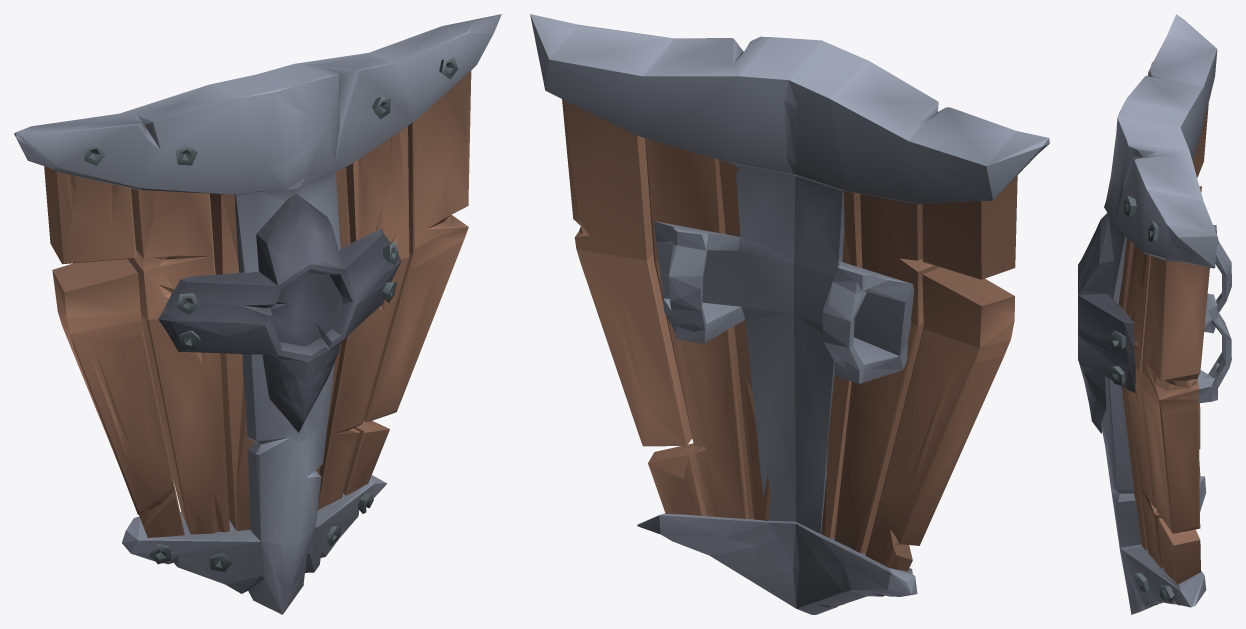
The model's file is kite_shield.fbx.
The picture shows the model from 3 angles, left to right: view 1: azimuth 30°, elevation 25°; view 2: azimuth 150°, elevation 25°; view 3: azimuth 270°, elevation 25°; orthographic projection. The views are drawn at different scales.
Visible parts, largest first — view 1: kite_shield; view 2: kite_shield; view 3: kite_shield.
Boxes of the visible parts, <box> form: kite_shield: <box>14,14,501,614</box>; kite_shield: <box>530,14,1049,614</box>; kite_shield: <box>1078,14,1231,614</box>.
Bounding box in the file's own units: 1.57 × 1.65 × 0.461.
